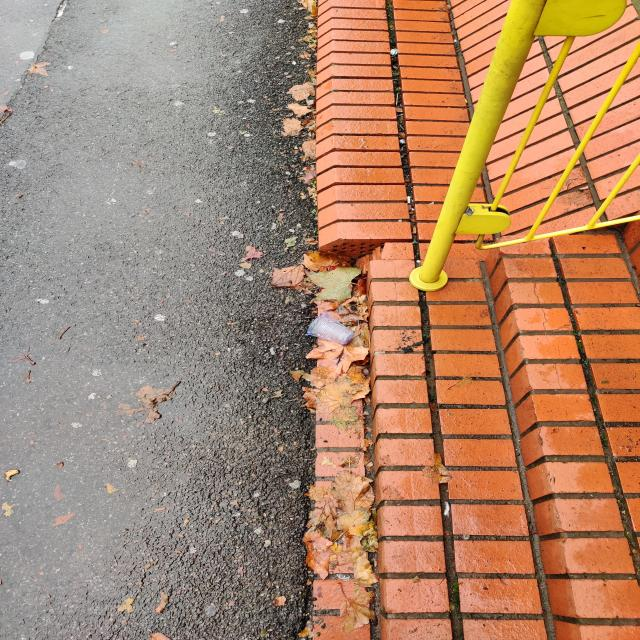litter: (299, 302, 371, 363)
